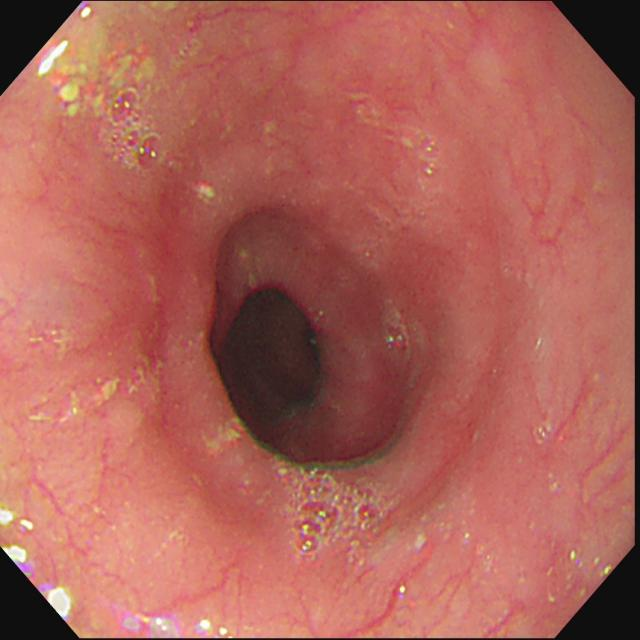E: (219, 273, 333, 432)
J: (68, 354, 164, 416), (58, 23, 113, 115), (209, 417, 243, 448)
T: (277, 459, 391, 557), (110, 92, 166, 169), (415, 134, 444, 184)
U: (2, 509, 34, 576), (46, 587, 73, 621), (201, 620, 236, 639)
